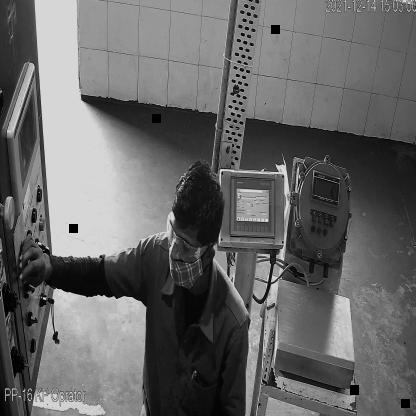goggles: (165, 225, 208, 267)
